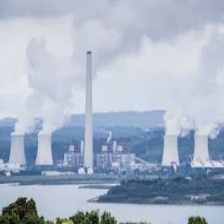smoke: (156, 43, 224, 135), (15, 44, 66, 132)
